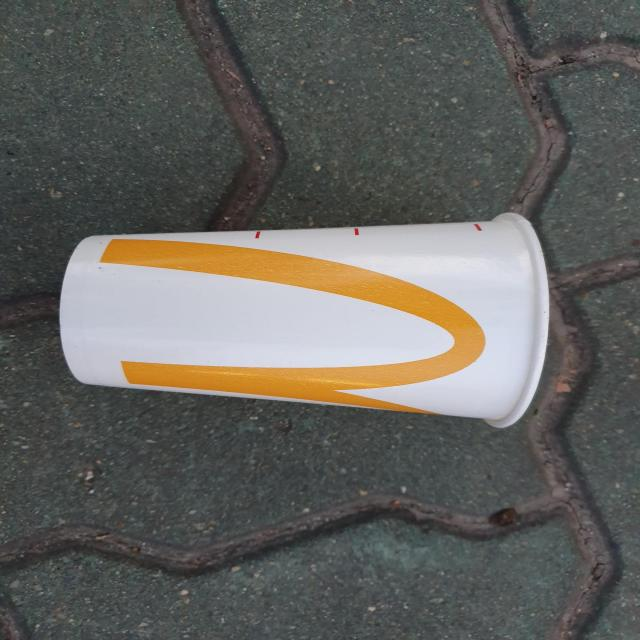paperpack: (59, 213, 549, 428)
